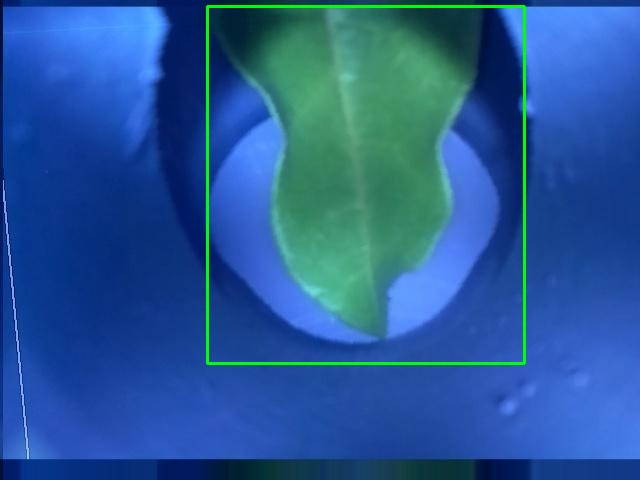feuille: (207, 6, 524, 363)
